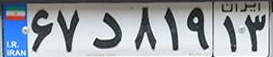character: (89, 6, 123, 55), (129, 5, 159, 54), (56, 6, 85, 54), (28, 5, 54, 53), (186, 5, 210, 53), (243, 12, 268, 55), (161, 4, 181, 52), (221, 14, 239, 55)
